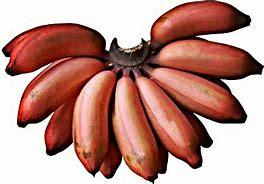banana: (5, 0, 264, 175)
